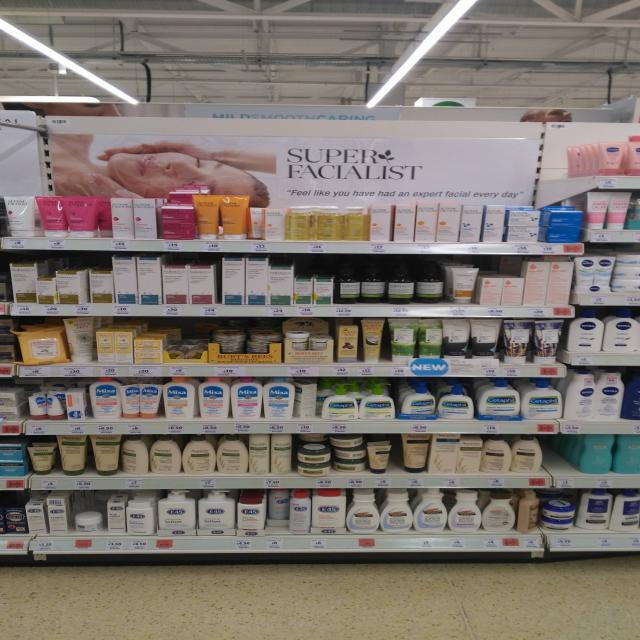void: (551, 435, 576, 476)
